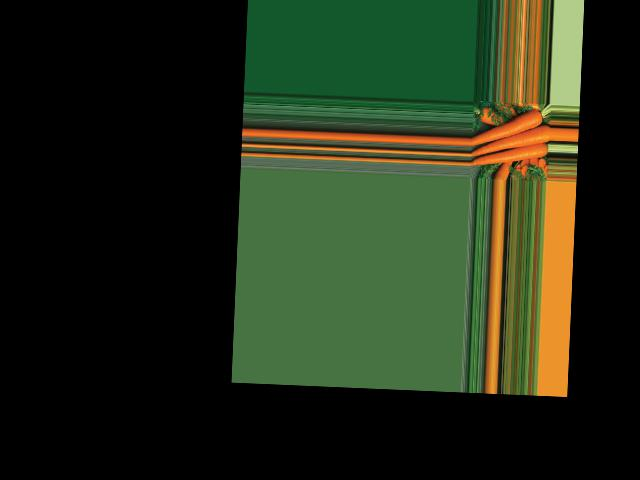carrot: (472, 105, 541, 149)
